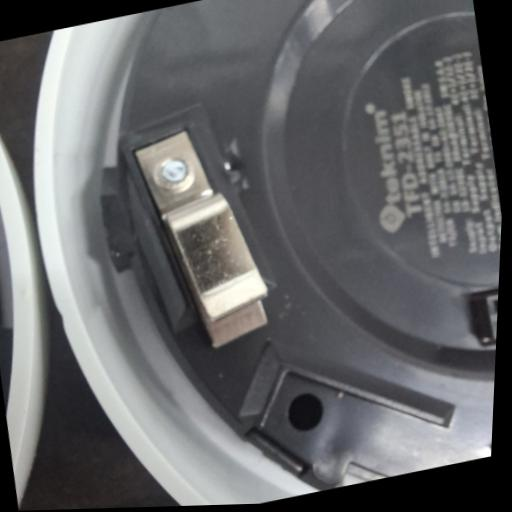yayli: (116, 112, 285, 363)
